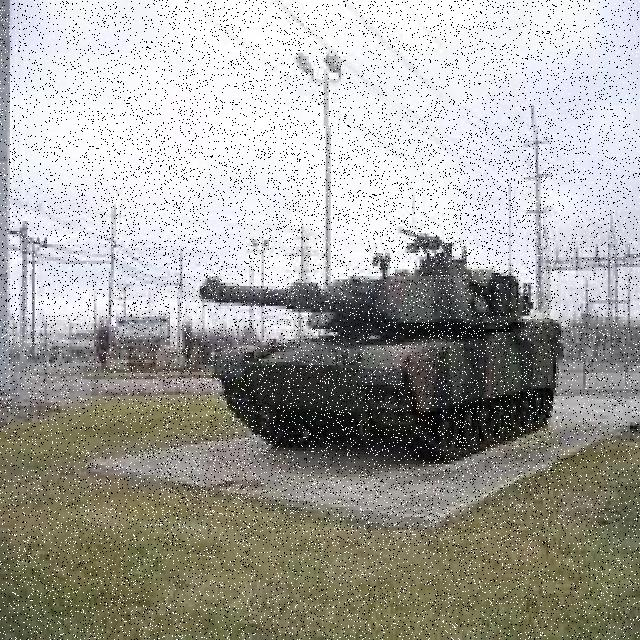MIL_MBT: (159, 127, 553, 545)
